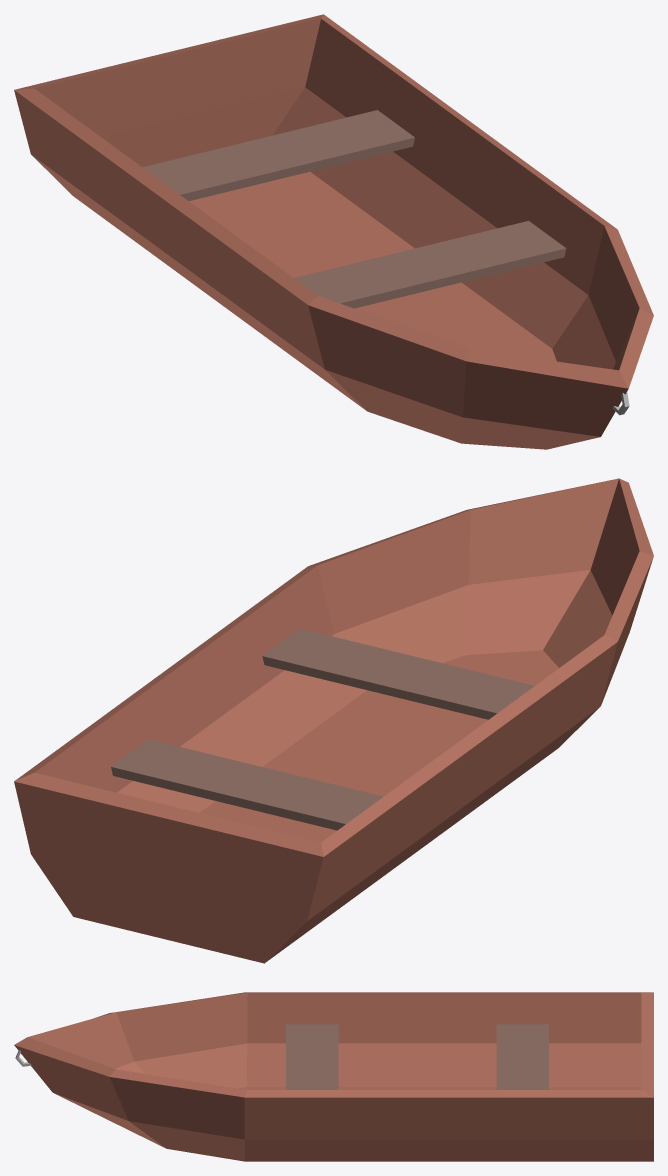
Rendered from props_023.glb.
The picture shows the model from 3 angles, top to bottom: view 1: azimuth 30°, elevation 25°; view 2: azimuth 150°, elevation 25°; view 3: azimuth 270°, elevation 25°; orthographic projection. The views are drawn at different scales.
Parts seen in each view (by area): view 1: props_023; view 2: props_023; view 3: props_023.
Part boxes in pixels (bbox=[...]): props_023: bbox=[14, 14, 653, 449]; props_023: bbox=[14, 478, 653, 963]; props_023: bbox=[14, 992, 653, 1161].
Bounding box in the file's own units: 2.37 × 0.9663 × 6.09.
1 material, 1 textured.
